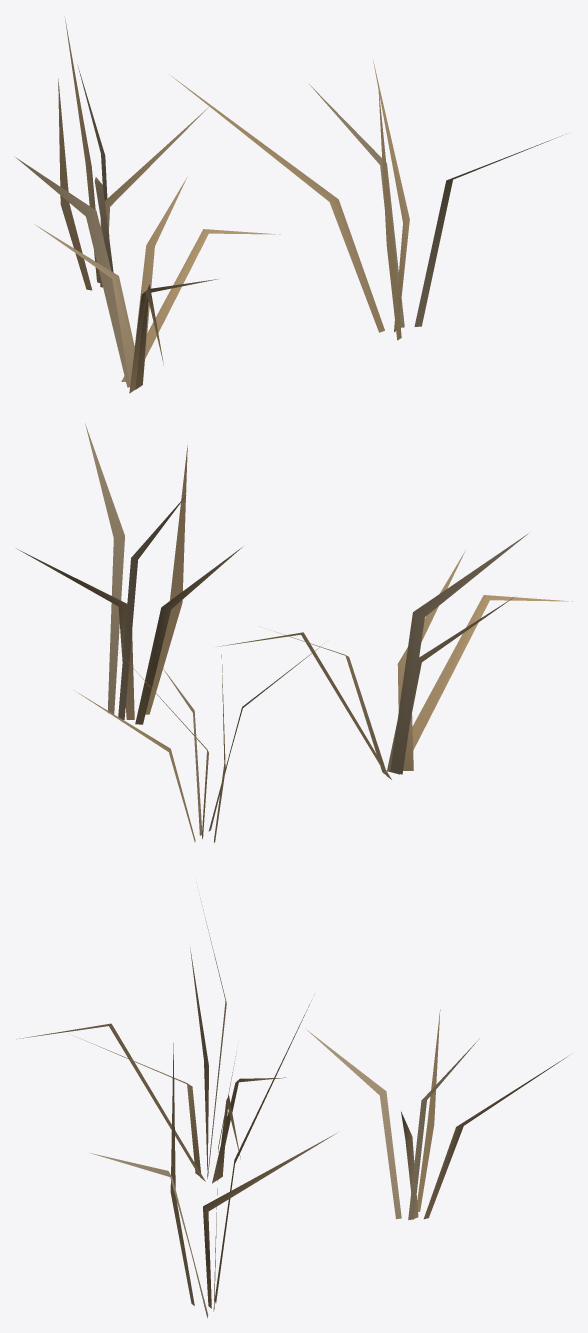
Rendered from Grass_h_OneS_05.fbx.
The picture shows the model from 3 angles, top to bottom: view 1: azimuth 30°, elevation 25°; view 2: azimuth 150°, elevation 25°; view 3: azimuth 270°, elevation 25°; orthographic projection. The views are drawn at different scales.
Visible parts, largest first — view 1: Grass_h_OneS_05; view 2: Grass_h_OneS_05; view 3: Grass_h_OneS_05.
Boxes of the visible parts, bbox=[...] form: Grass_h_OneS_05: bbox=[14, 16, 562, 393]; Grass_h_OneS_05: bbox=[16, 423, 573, 843]; Grass_h_OneS_05: bbox=[16, 898, 567, 1318].
Bounding box in the file's own units: 81.68 × 43.01 × 84.62.
